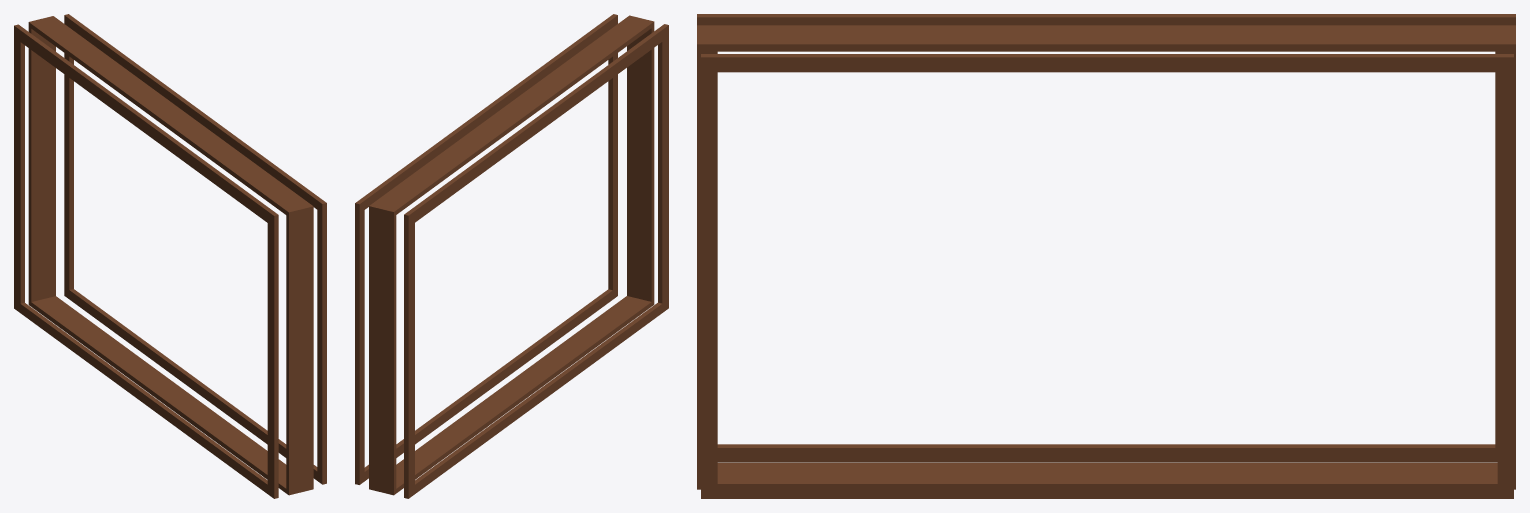
File: 26R4GGj8v8EAchpBZVtR1R.dae
The picture shows the model from 3 angles, left to right: view 1: azimuth 30°, elevation 25°; view 2: azimuth 150°, elevation 25°; view 3: azimuth 270°, elevation 25°; orthographic projection. The views are drawn at different scales.
Visible parts, largest first — view 1: product-866c4410-b48e-4838-a9ab-ccb8dfddb05b-body; view 2: product-866c4410-b48e-4838-a9ab-ccb8dfddb05b-body; view 3: product-866c4410-b48e-4838-a9ab-ccb8dfddb05b-body.
Part boxes in pixels (x1,y1,x2,y2): product-866c4410-b48e-4838-a9ab-ccb8dfddb05b-body: (14, 14, 326, 498); product-866c4410-b48e-4838-a9ab-ccb8dfddb05b-body: (355, 14, 668, 498); product-866c4410-b48e-4838-a9ab-ccb8dfddb05b-body: (697, 14, 1515, 498).
Bounding box in the file's own units: 0.24 × 2 × 1.2.
